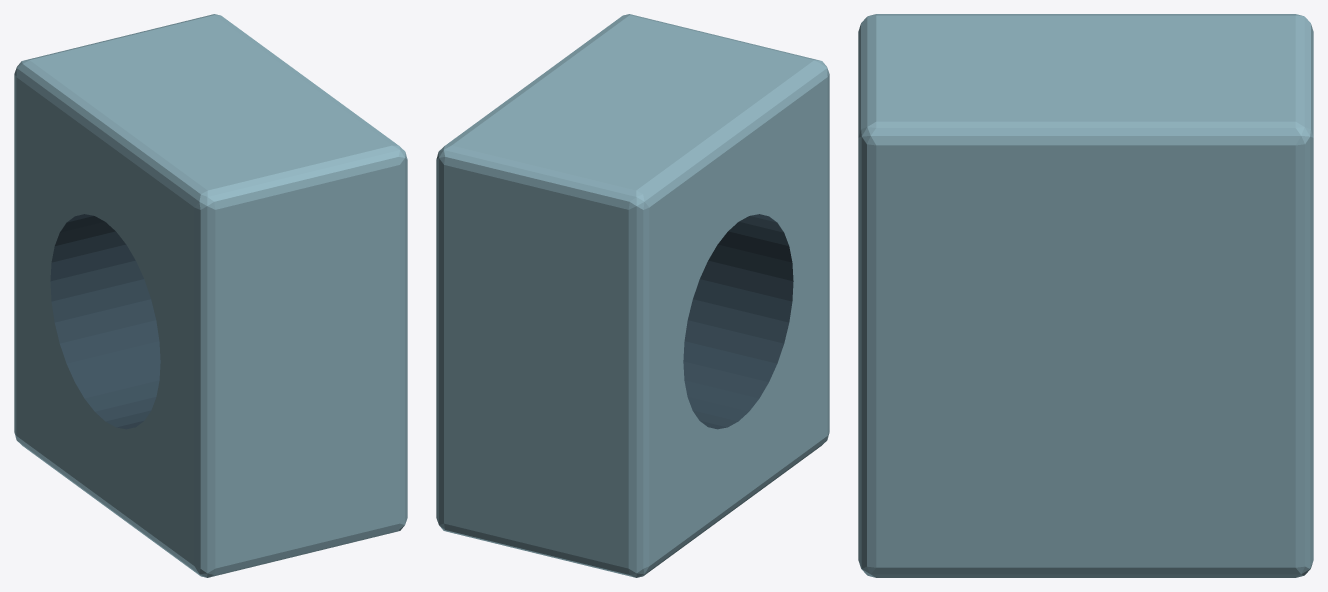
The picture shows the model from 3 angles, left to right: view 1: azimuth 30°, elevation 25°; view 2: azimuth 150°, elevation 25°; view 3: azimuth 270°, elevation 25°; orthographic projection. The views are drawn at different scales.
Parts seen in each view (by area): view 1: geometry_0; view 2: geometry_0; view 3: geometry_0.
Part boxes in pixels (bbox=[...]): geometry_0: bbox=[14, 14, 407, 577]; geometry_0: bbox=[436, 14, 829, 577]; geometry_0: bbox=[858, 14, 1313, 577].
Size of the model in its own units: 0.016 by 0.028 by 0.0254.
1 material, 1 textured.
